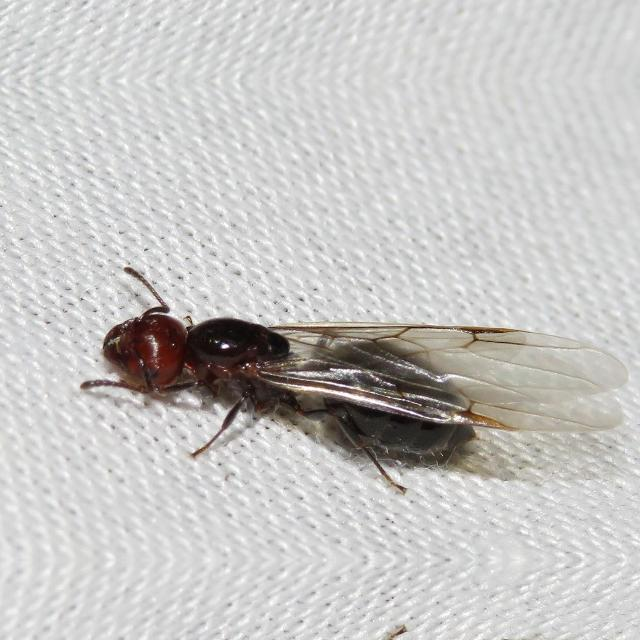Crematogaster: (95, 283, 487, 477)
